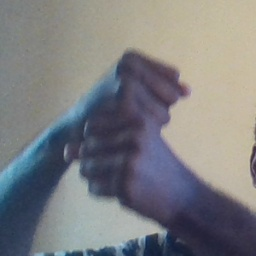G: (66, 46, 193, 205)
